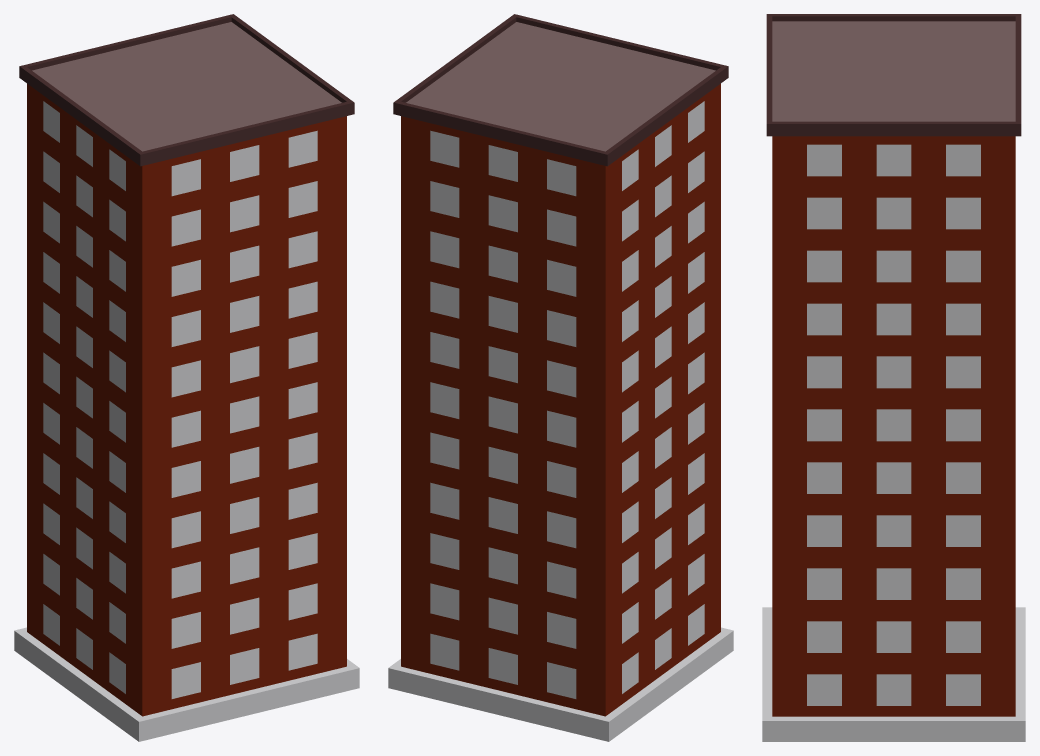
The model's file is building30b.FBX.
3 views of the same model, side by side, from view 1: azimuth 30°, elevation 25°; view 2: azimuth 150°, elevation 25°; view 3: azimuth 270°, elevation 25° (orthographic). The views are drawn at different scales.
Visible parts, largest first — view 1: building30b; view 2: building30b; view 3: building30b.
Part boxes in pixels (x1,y1,x2,y2): building30b: (14,14,359,741); building30b: (388,14,733,741); building30b: (762,14,1025,741).
Size of the model in its own units: 17.57 by 44.48 by 17.21.
